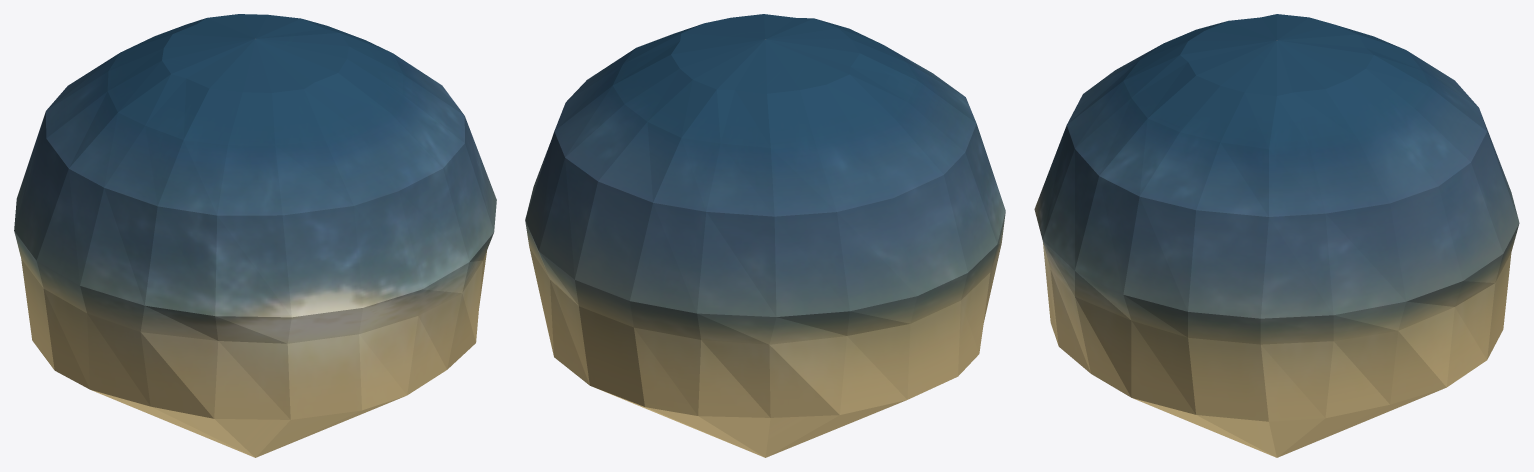
Rendered from C1M1SKY.obj.
3 renders of one model, left to right at view 1: azimuth 30°, elevation 25°; view 2: azimuth 150°, elevation 25°; view 3: azimuth 270°, elevation 25°, orthographic.
Parts seen in each view (by area): view 1: Node 0; view 2: Node 0; view 3: Node 0.
Boxes of the visible parts, left/top/right/bottom form: Node 0: left=14, top=14, right=496, bottom=457; Node 0: left=525, top=14, right=1005, bottom=457; Node 0: left=1034, top=14, right=1519, bottom=457.
Bounding box in the file's own units: 0.6 × 0.57 × 0.6.
Materials: 1 (1 with a texture image).
